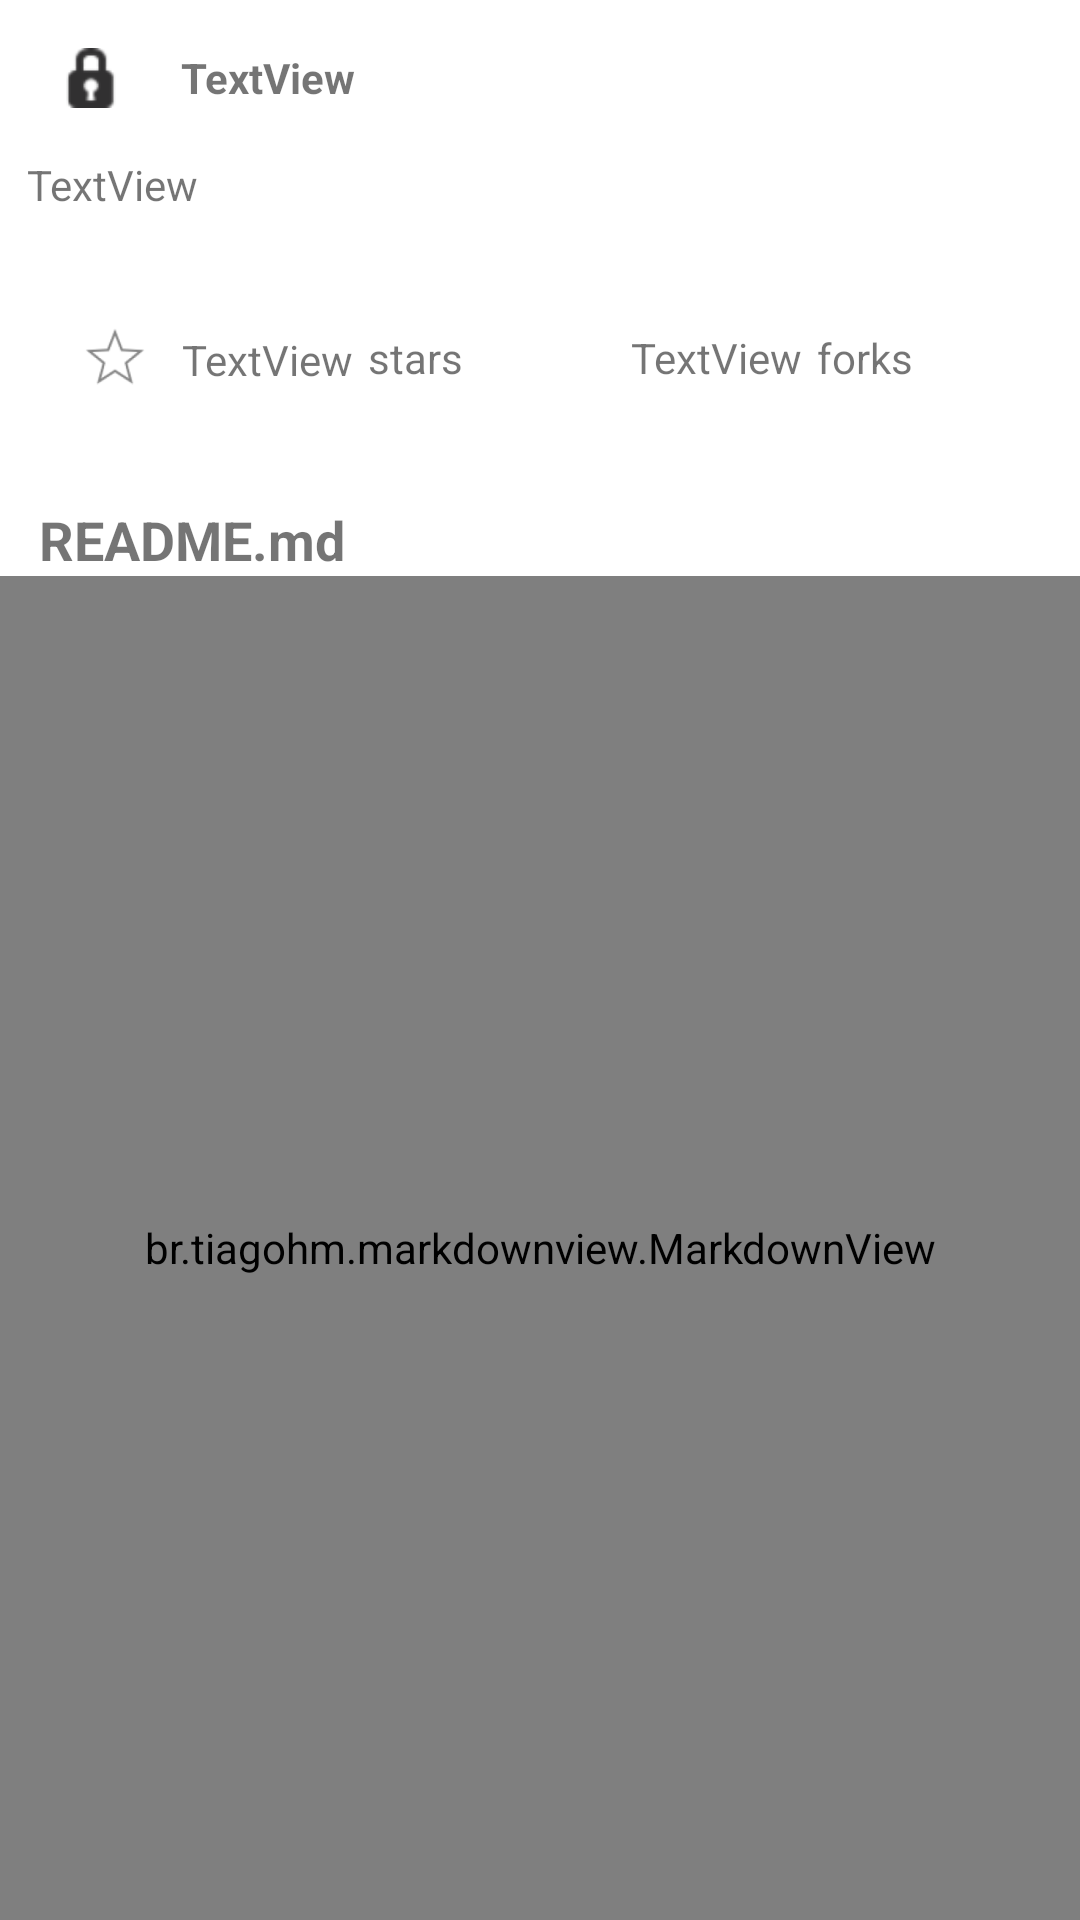

Icon bounding boxes for this 1080 × 1920 phone screenshot, format (left=x1, top=y1, right=x2, bottom=y2):
secure: (left=67, top=48, right=114, bottom=108)
star: (left=86, top=330, right=144, bottom=384)
